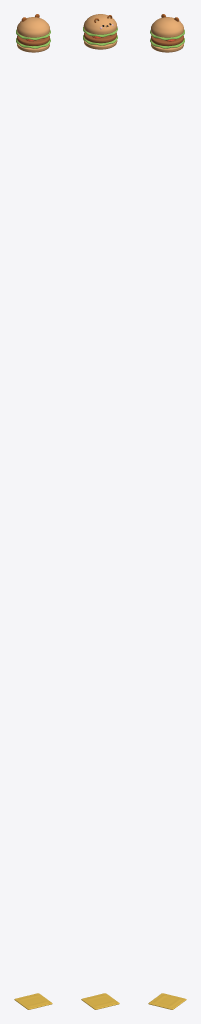
File: boorgy.fbx
3 views of the same model, side by side, from view 1: azimuth 30°, elevation 25°; view 2: azimuth 210°, elevation 25°; view 3: azimuth 330°, elevation 25° (orthographic).
Visible parts, largest first — view 1: Top_Bun.001, Cheese.001, Patty.001, Bun.001; view 2: Top_Bun.001, Cheese.001, Patty.001, Bun.001; view 3: Top_Bun.001, Cheese.001, Patty.001, Bun.001.
Part boxes in pixels (x1,y1,x2,y2): Top_Bun.001: [17, 17, 49, 37]; Cheese.001: [14, 993, 52, 1009]; Patty.001: [17, 35, 49, 46]; Bun.001: [17, 43, 49, 52]; Top_Bun.001: [83, 14, 117, 34]; Cheese.001: [81, 993, 119, 1009]; Patty.001: [84, 32, 116, 43]; Bun.001: [83, 40, 117, 49]; Top_Bun.001: [151, 17, 183, 37]; Cheese.001: [148, 993, 186, 1009]; Patty.001: [151, 35, 183, 46]; Bun.001: [151, 43, 183, 52].
Bounding box in the file's own units: 191 × 5872 × 191.
